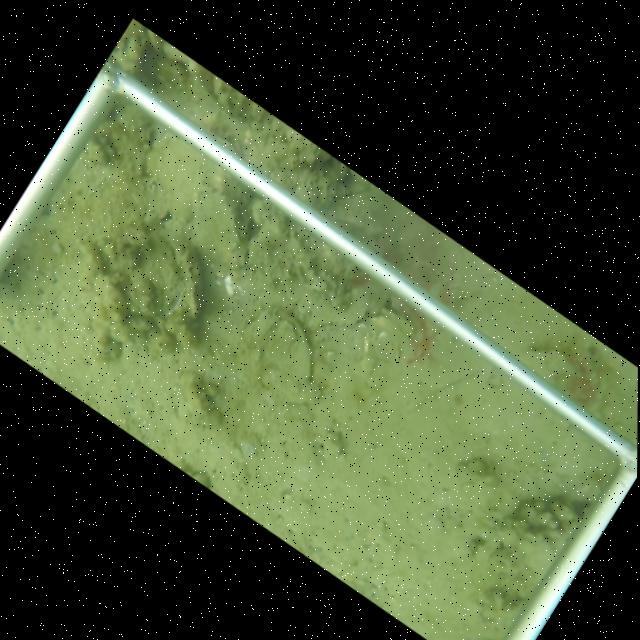Oyster-Closed: (171, 236, 204, 330)
Oyster-Indeterminate: (233, 302, 323, 405)
